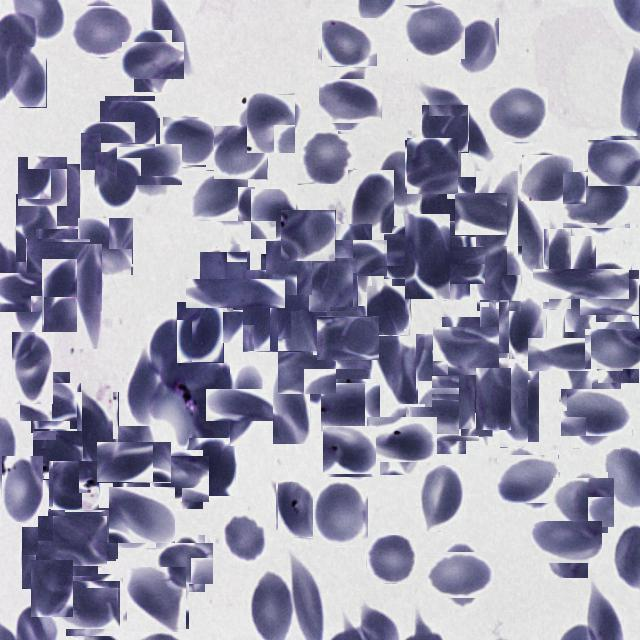red blood cell: (202, 261, 268, 326), (543, 322, 608, 386), (548, 252, 612, 316), (466, 182, 528, 246), (566, 170, 628, 232), (125, 568, 187, 630), (110, 484, 172, 546), (405, 214, 450, 299), (313, 481, 369, 547), (125, 347, 171, 426), (567, 383, 627, 443), (412, 388, 472, 448), (43, 510, 103, 570), (77, 392, 119, 477), (500, 363, 540, 448), (432, 546, 490, 604), (194, 167, 252, 225), (488, 86, 546, 144), (405, 2, 463, 60), (104, 434, 162, 492), (247, 268, 304, 326), (437, 322, 495, 379), (374, 411, 432, 468), (538, 514, 595, 571), (218, 377, 275, 434), (73, 3, 130, 60), (78, 218, 134, 276), (422, 177, 476, 237), (507, 189, 544, 275), (102, 98, 158, 154), (321, 73, 377, 128), (500, 451, 556, 506), (555, 475, 611, 530), (322, 381, 378, 436), (5, 264, 60, 320), (62, 578, 118, 632), (419, 465, 464, 532), (477, 246, 522, 312), (243, 96, 298, 150), (12, 332, 53, 404), (200, 252, 248, 313), (298, 130, 352, 184), (214, 126, 268, 180), (388, 230, 442, 284), (408, 342, 462, 396), (122, 138, 176, 192), (406, 139, 460, 193), (321, 15, 375, 69), (322, 310, 376, 364), (348, 170, 394, 233), (243, 270, 278, 352), (177, 302, 224, 363), (380, 150, 427, 211), (165, 114, 218, 168), (31, 234, 84, 288), (281, 210, 336, 262), (34, 164, 80, 226), (75, 244, 102, 349), (153, 453, 206, 506), (425, 239, 478, 292), (16, 194, 57, 262), (273, 369, 310, 444), (2, 456, 43, 522), (65, 508, 117, 560), (82, 120, 134, 172), (328, 232, 380, 284), (584, 266, 636, 318), (324, 424, 376, 476), (148, 320, 192, 381), (189, 438, 235, 496), (42, 258, 78, 332), (309, 258, 358, 312), (592, 323, 640, 377), (266, 241, 313, 296), (459, 361, 493, 437), (22, 527, 63, 589), (6, 47, 47, 108), (26, 378, 76, 428), (50, 460, 100, 510), (590, 138, 640, 188), (128, 36, 178, 86), (282, 348, 332, 398), (18, 157, 68, 207), (455, 18, 499, 74), (33, 430, 83, 479), (95, 152, 137, 210), (160, 538, 208, 588), (392, 347, 432, 407), (31, 560, 73, 617), (520, 155, 572, 201), (509, 298, 547, 360), (543, 229, 572, 310), (366, 536, 414, 584), (250, 190, 298, 238), (422, 104, 469, 152), (366, 286, 411, 336), (276, 482, 316, 538), (476, 368, 511, 430), (480, 300, 510, 371), (334, 334, 371, 390), (226, 517, 266, 558)
